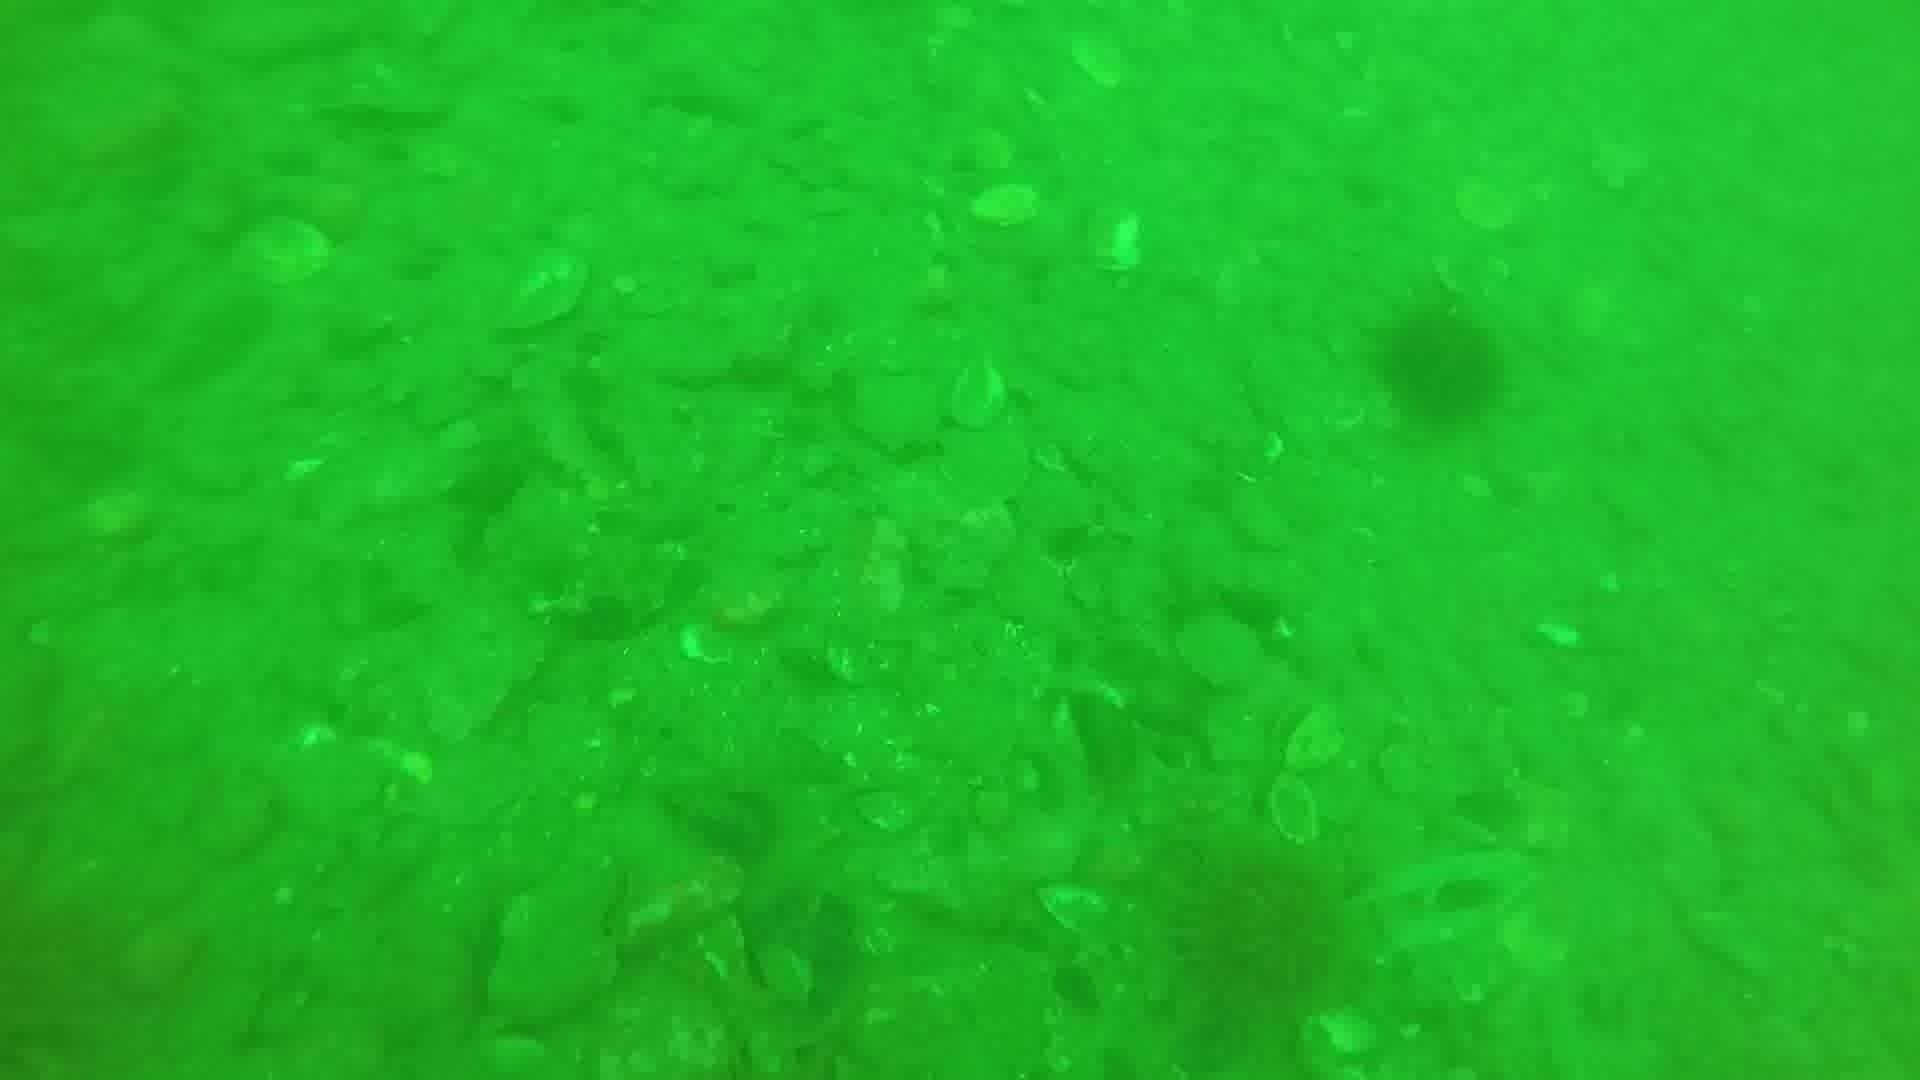echinus: (1162, 835, 1356, 1025), (1371, 305, 1507, 431)
